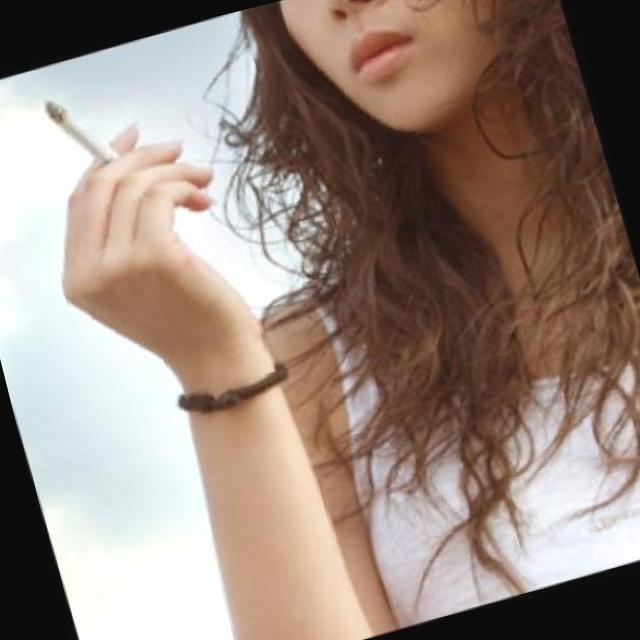smoke: (42, 83, 128, 180)
